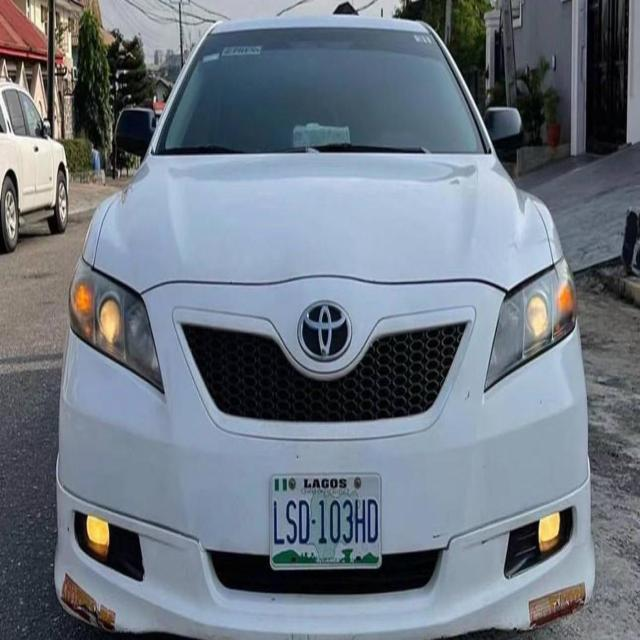Nigerian License Plate - vdataset benjamin-daria: (266, 462, 388, 578)
